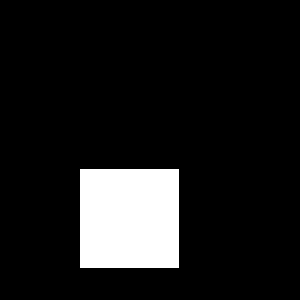circle: (80, 169, 179, 268)
